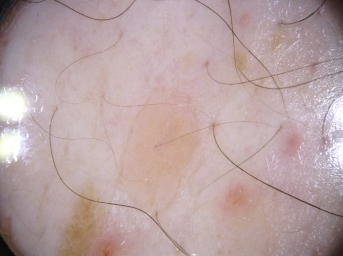seborrheic keratosis: (97, 66, 236, 224)
